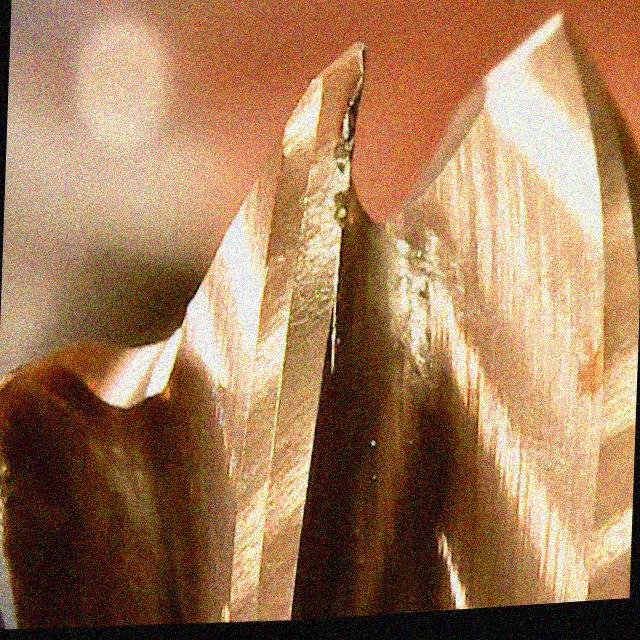Tool-wear-class-1: (233, 34, 374, 409)
